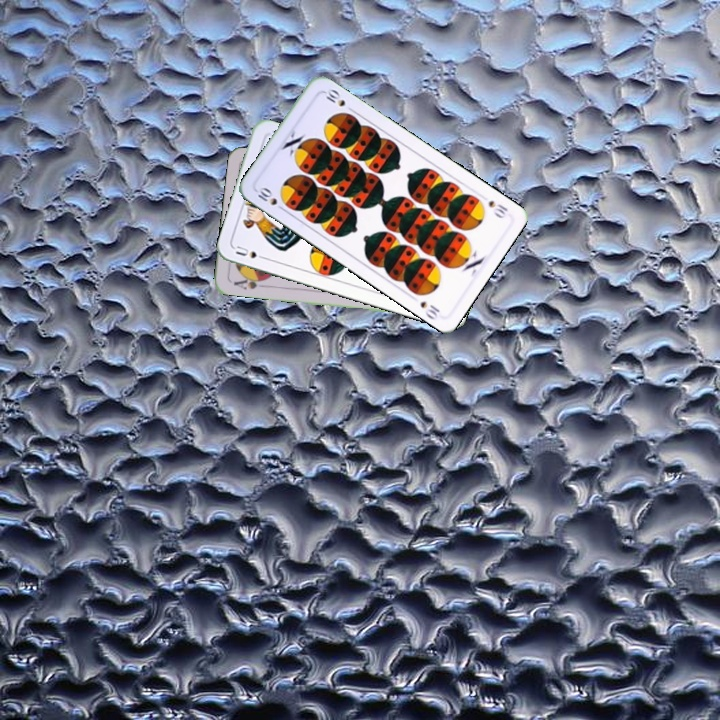S10: (252, 182, 288, 214), (484, 196, 510, 221)
SA: (230, 272, 269, 292)
SU: (232, 242, 270, 263)
